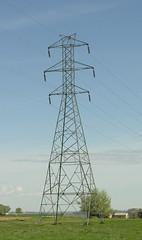power_tower: (38, 29, 105, 224)
